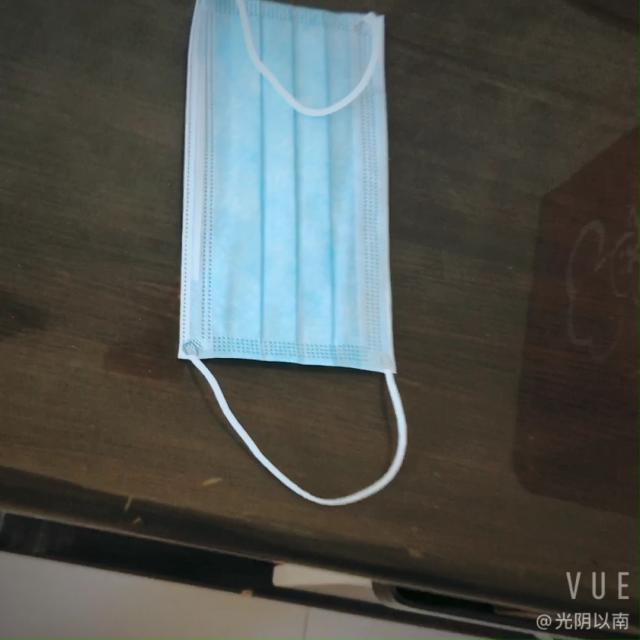face mask: (144, 0, 409, 377)
